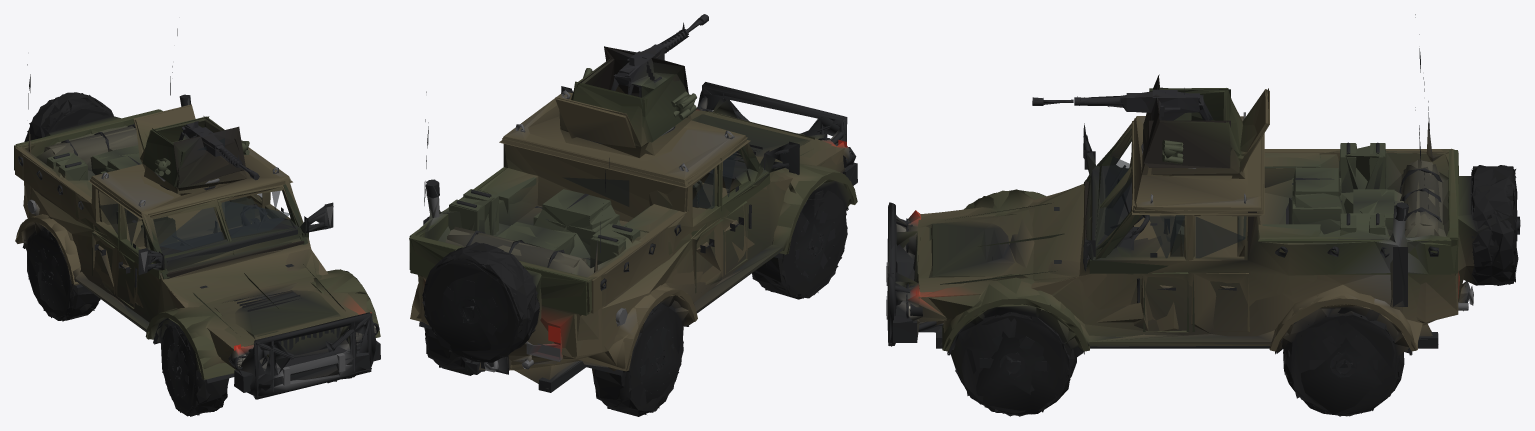
The model's file is mrap.glb.
The picture shows the model from 3 angles, left to right: view 1: azimuth 30°, elevation 25°; view 2: azimuth 150°, elevation 25°; view 3: azimuth 270°, elevation 25°; orthographic projection. The views are drawn at different scales.
Parts seen in each view (by area): view 1: L1_05_hull_opaque, L2_08_hull_opaque, L0_01_hull_opaque, L0_00_hull_glass, L1_04_hull_glass, L0_03_turret_opaque; view 2: L1_05_hull_opaque, L2_08_hull_opaque, L0_01_hull_opaque, L0_00_hull_glass, L1_04_hull_glass, L0_03_turret_opaque; view 3: L1_05_hull_opaque, L2_08_hull_opaque, L0_01_hull_opaque, L0_00_hull_glass, L1_04_hull_glass.
Boxes of the visible parts, box(x1,y1,x2,y2) form: L1_05_hull_opaque: box(15, 28, 380, 416); L2_08_hull_opaque: box(14, 74, 376, 416); L0_01_hull_opaque: box(15, 94, 380, 416); L0_00_hull_glass: box(99, 191, 290, 250); L1_04_hull_glass: box(100, 191, 290, 250); L0_03_turret_opaque: box(154, 140, 259, 190); L1_05_hull_opaque: box(409, 35, 857, 416); L2_08_hull_opaque: box(409, 46, 851, 413); L0_01_hull_opaque: box(409, 22, 857, 414); L0_00_hull_glass: box(564, 151, 742, 208); L1_04_hull_glass: box(565, 152, 742, 208); L0_03_turret_opaque: box(583, 14, 708, 135); L1_05_hull_opaque: box(887, 14, 1516, 416); L2_08_hull_opaque: box(889, 48, 1516, 414); L0_01_hull_opaque: box(886, 74, 1520, 416); L0_00_hull_glass: box(1104, 156, 1245, 257); L1_04_hull_glass: box(1104, 157, 1244, 257).
Size of the model in its own units: 2.97 by 3.58 by 6.68.
